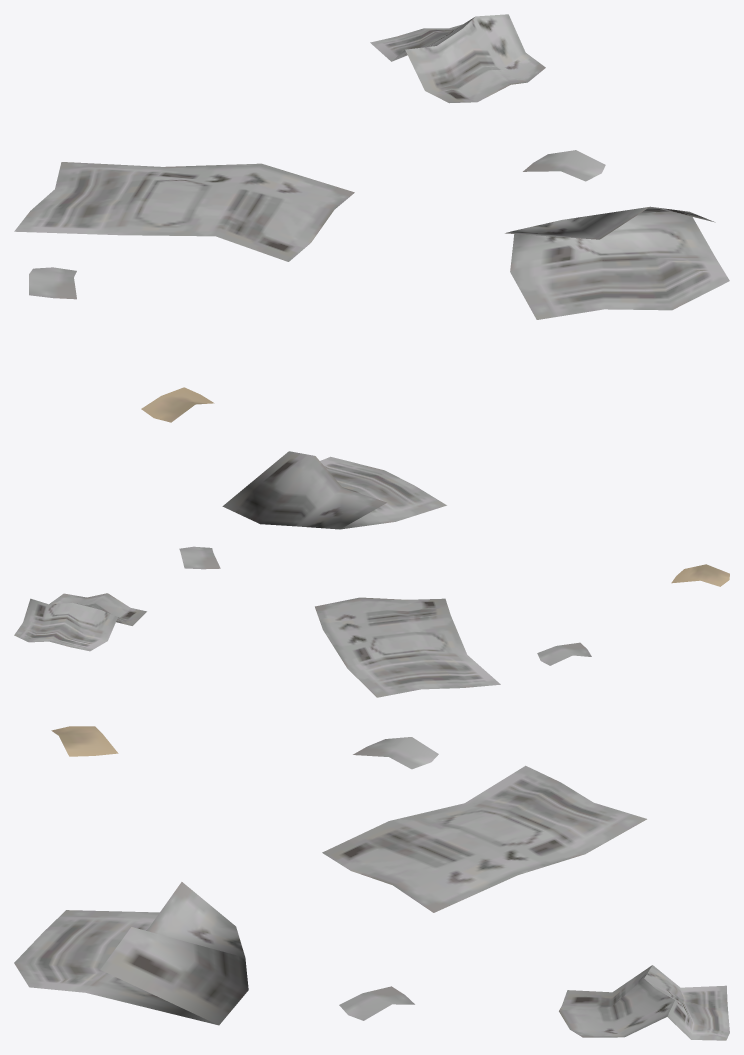
The model's file is SM_Trash_Paper01.glb.
3 renders of one model, top to bottom at view 1: azimuth 30°, elevation 25°; view 2: azimuth 150°, elevation 25°; view 3: azimuth 270°, elevation 25°, orthographic. The views are drawn at different scales.
Parts seen in each view (by area): view 1: SM_Trash_Paper01; view 2: SM_Trash_Paper01; view 3: SM_Trash_Paper01.
Part boxes in pixels (left/top/right/bottom): SM_Trash_Paper01: left=14, top=14, right=729, bottom=422; SM_Trash_Paper01: left=14, top=451, right=729, bottom=697; SM_Trash_Paper01: left=14, top=726, right=729, bottom=1040.
Bounding box in the file's own units: 0.5725 × 0.0512 × 0.5368.
Materials: 1 (1 with a texture image).
